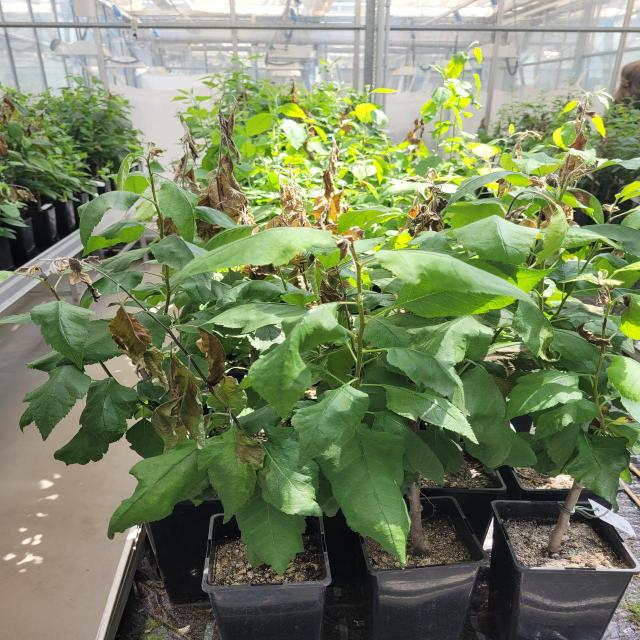-FireBlight-: (17, 253, 240, 445), (253, 141, 367, 243), (171, 89, 252, 225), (561, 87, 600, 197)
